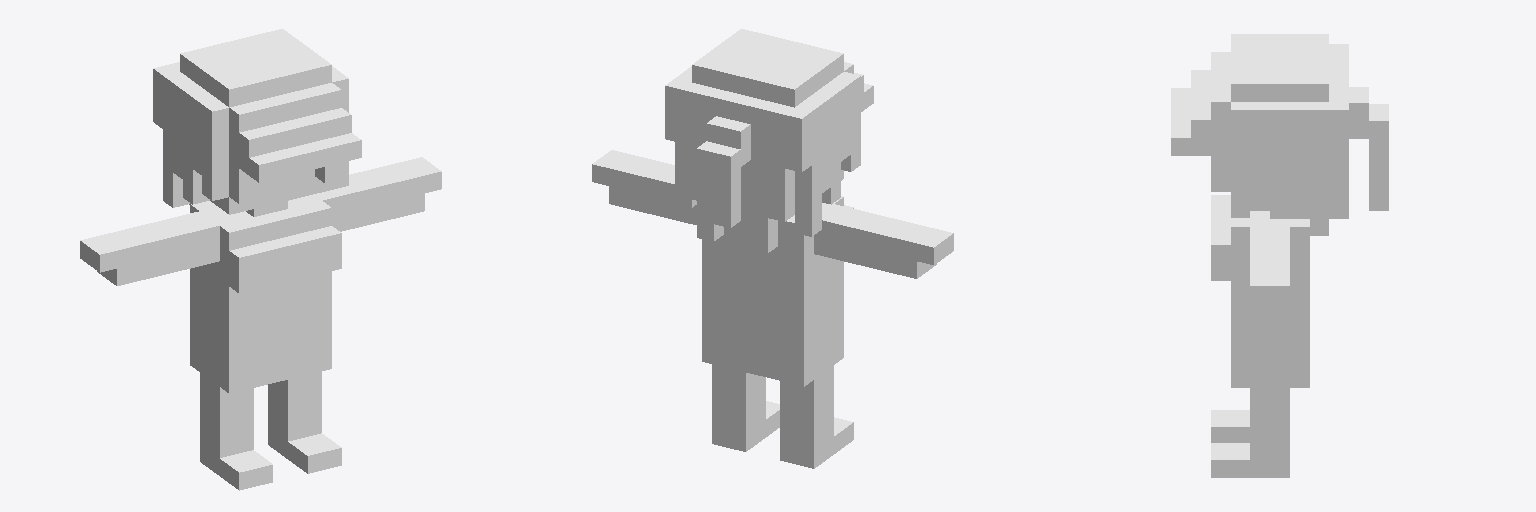
The model's file is market_cashier_female.obj.
3 views of the same model, side by side, from view 1: azimuth 30°, elevation 25°; view 2: azimuth 150°, elevation 25°; view 3: azimuth 270°, elevation 25° (orthographic).
Parts seen in each view (by area): view 1: object 1; view 2: object 1; view 3: object 1.
Boxes of the visible parts, <box> form: object 1: <box>80,29,441,490</box>; object 1: <box>592,29,953,468</box>; object 1: <box>1171,34,1388,477</box>.
Size of the model in its own units: 2 by 2.2 by 1.1.